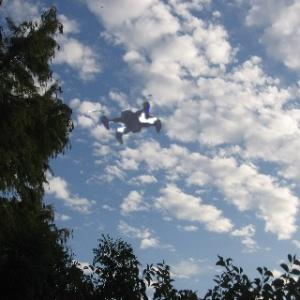drone: (73, 62, 193, 182)
